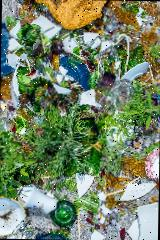glass: (119, 180, 159, 201), (52, 201, 78, 224), (74, 174, 96, 198), (16, 23, 41, 43), (79, 87, 98, 106)
